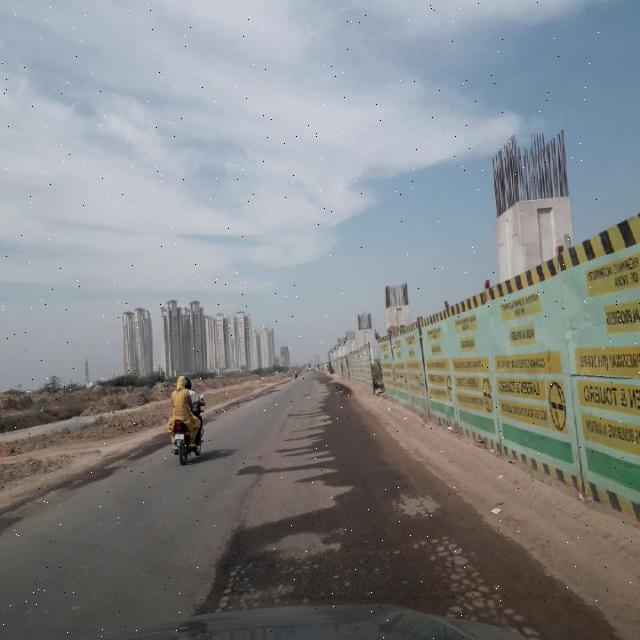D00: (205, 404, 292, 606)
D20: (214, 476, 529, 604)
